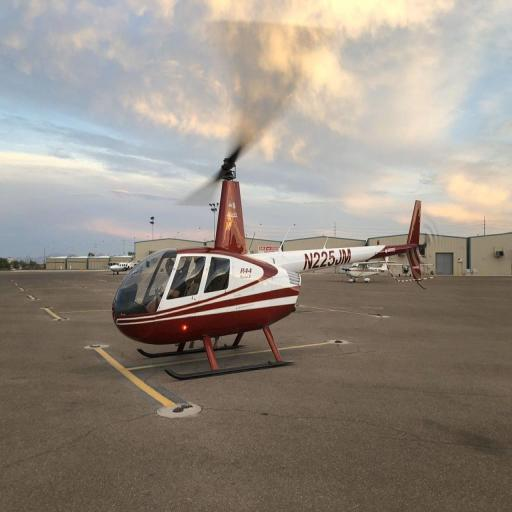helicopter: (109, 142, 439, 390)
